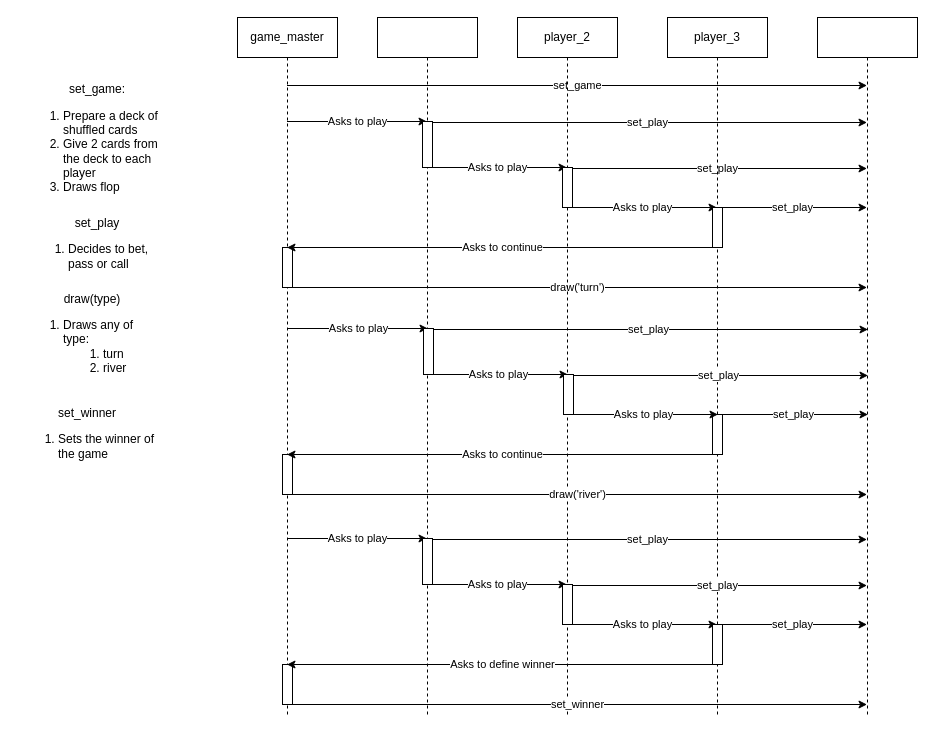
Image size: 935x735. Some labels were removed from this diagram. The shapes that lost their labels are listed below. From the top down, each one's box as (x1, y1, x2, y2) in pixels, then its label:
(376, 16, 478, 718): player_1
(816, 16, 918, 718): game_state
